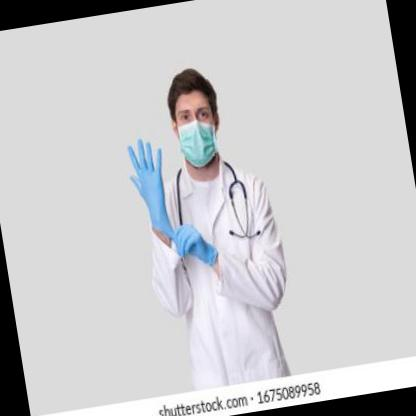Gloves: (123, 134, 176, 244), (170, 219, 218, 272)
